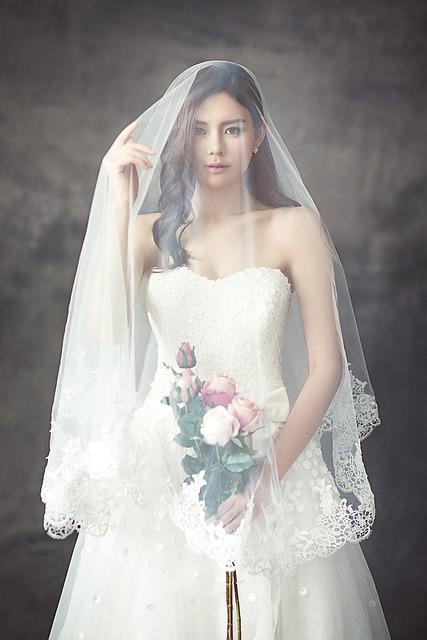Non_Gorille: (12, 40, 427, 640)
